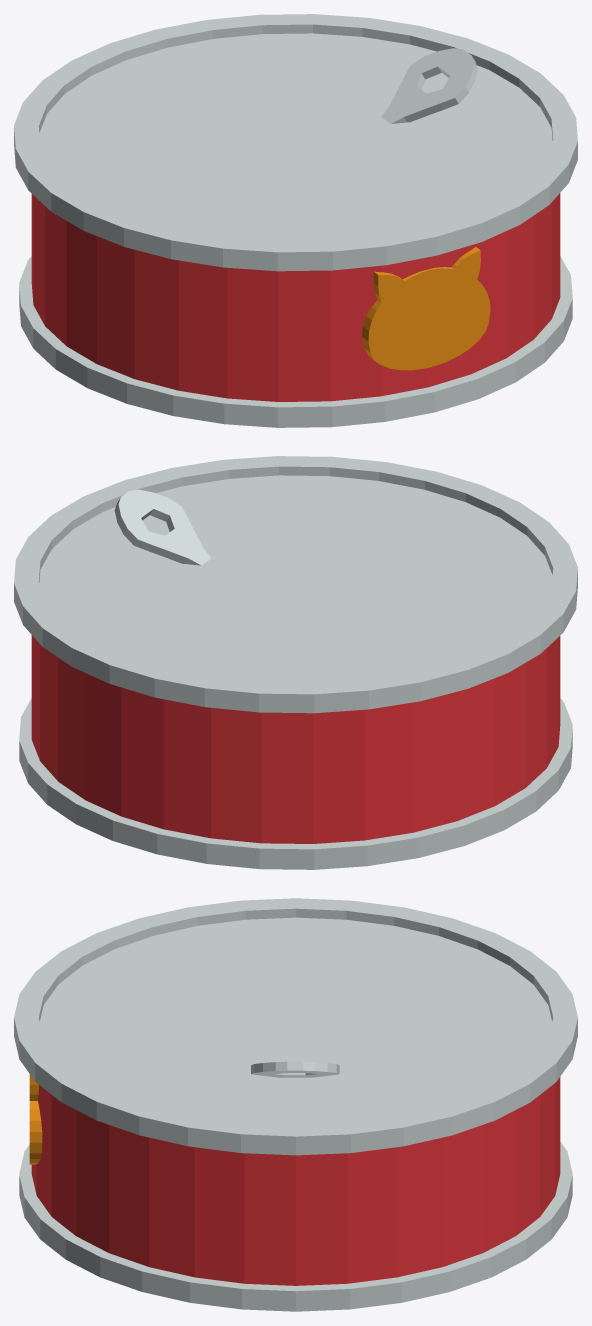
The model's file is CatFoodCan.fbx.
3 views of the same model, one above another, from view 1: azimuth 30°, elevation 25°; view 2: azimuth 150°, elevation 25°; view 3: azimuth 270°, elevation 25° (orthographic).
Parts seen in each view (by area): view 1: Cylinder, Plane.001, Plane; view 2: Cylinder, Plane; view 3: Cylinder, Plane, Plane.001.
Part boxes in pixels (x1,y1,x2,y2): Cylinder: [14, 14, 577, 427]; Plane.001: [362, 247, 490, 370]; Plane: [381, 48, 477, 123]; Cylinder: [14, 456, 577, 869]; Plane: [114, 489, 211, 565]; Cylinder: [14, 898, 577, 1311]; Plane: [251, 1061, 339, 1077]; Plane.001: [29, 1074, 42, 1164].
Bounding box in the file's own units: 213 × 90.37 × 213.
